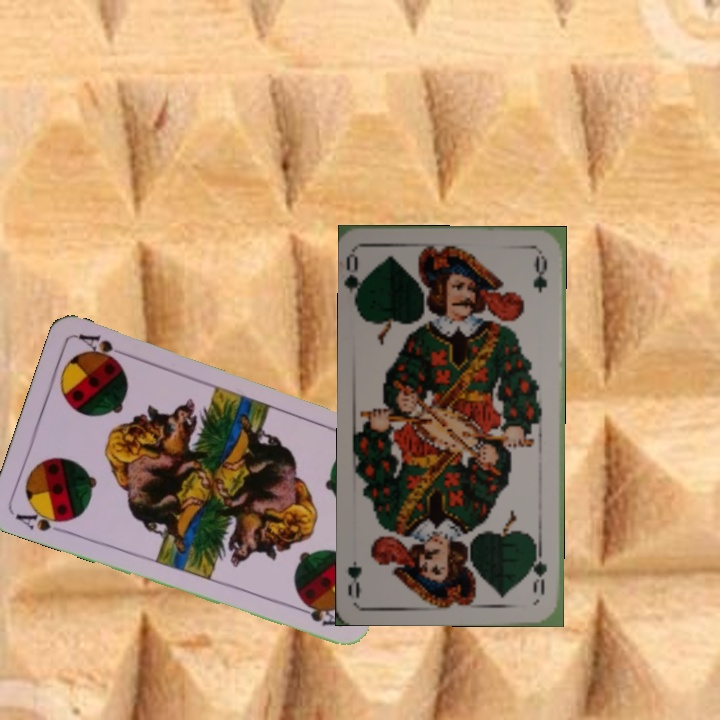GO: (344, 250, 372, 309), (528, 541, 549, 597)
SA: (11, 503, 72, 536)
